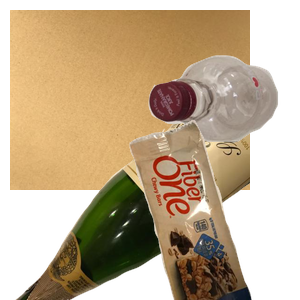cardboard: (10, 10, 250, 190)
glass: (13, 120, 253, 300)
plastic: (146, 53, 300, 187)
trash: (127, 120, 300, 300)
